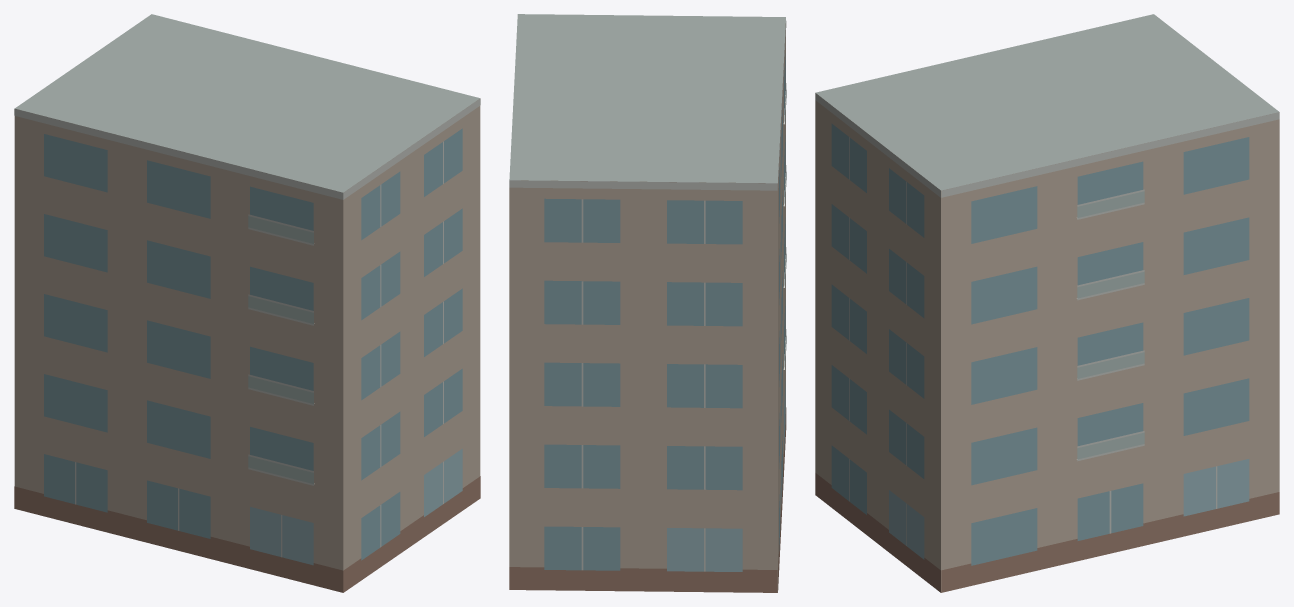
Rendered from survey-upis-32787777.glb.
3 views of the same model, side by side, from view 1: azimuth 30°, elevation 25°; view 2: azimuth 150°, elevation 25°; view 3: azimuth 270°, elevation 25° (orthographic). The views are drawn at different scales.
Visible parts, largest first — view 1: survey-upis-32787777.tmp; view 2: survey-upis-32787777.tmp; view 3: survey-upis-32787777.tmp.
Part boxes in pixels (<box>): survey-upis-32787777.tmp: <box>14,14,480,592</box>; survey-upis-32787777.tmp: <box>509,14,786,592</box>; survey-upis-32787777.tmp: <box>815,14,1279,592</box>.
Bounding box in the file's own units: 12.67 × 13.45 × 14.08.
